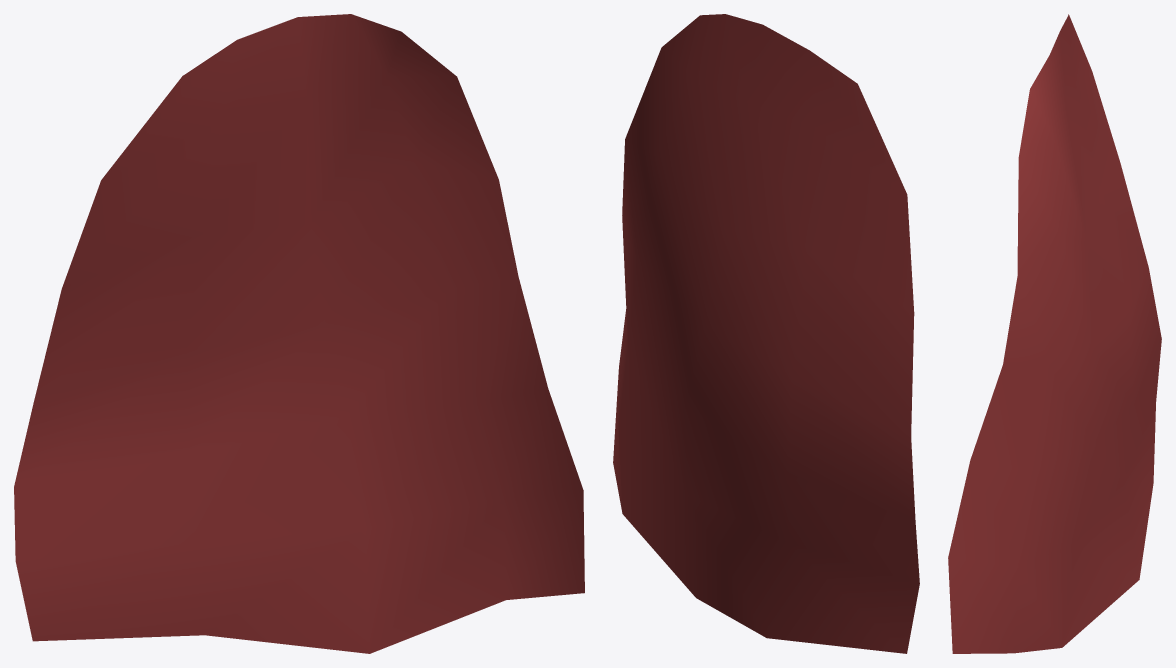
File: subcutaneous-calcaneal-bursa-r.glb
3 views of the same model, side by side, from view 1: azimuth 30°, elevation 25°; view 2: azimuth 150°, elevation 25°; view 3: azimuth 270°, elevation 25° (orthographic). The views are drawn at different scales.
Parts seen in each view (by area): view 1: Subcutaneous calcaneal bursa.r; view 2: Subcutaneous calcaneal bursa.r; view 3: Subcutaneous calcaneal bursa.r.
Part boxes in pixels (box(x1,y1,x2,y2)): Subcutaneous calcaneal bursa.r: box(14, 14, 584, 653); Subcutaneous calcaneal bursa.r: box(613, 14, 919, 653); Subcutaneous calcaneal bursa.r: box(948, 14, 1161, 653).
Size of the model in its own units: 0.0213 by 0.0292 by 0.00968.
